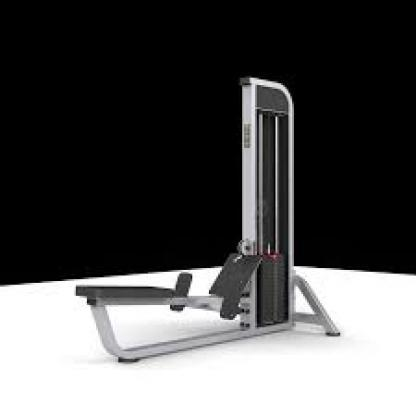Seated Cable Rows: (73, 70, 342, 367)
